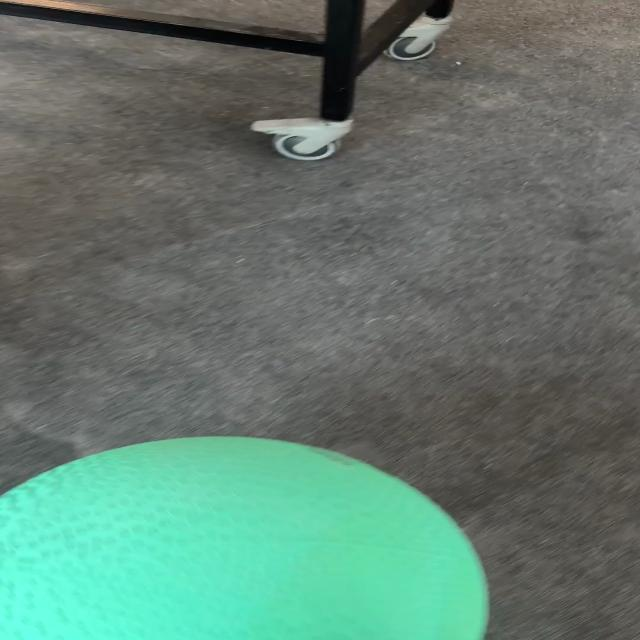Algae: (1, 434, 490, 639)
